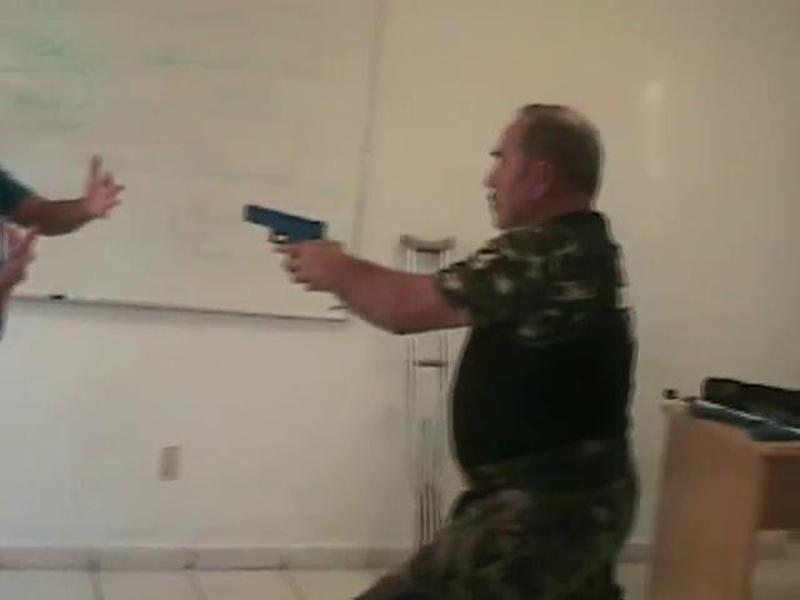Pistola: (233, 179, 339, 297)
